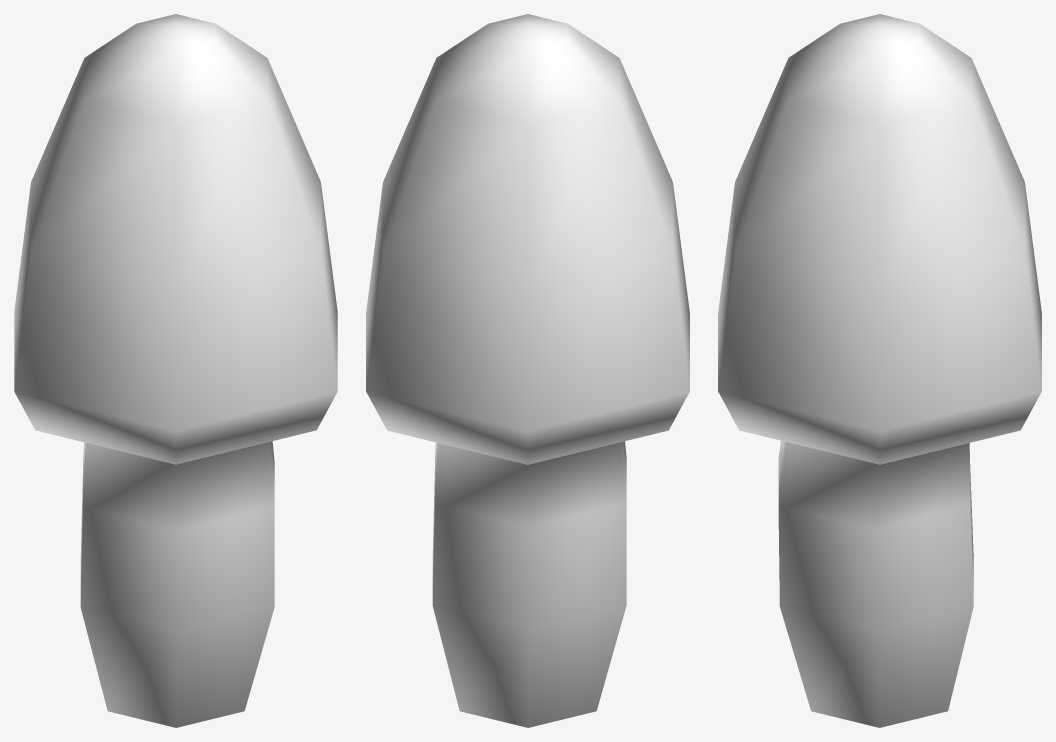
File: MushroomGround2.fbx
3 renders of one model, left to right at view 1: azimuth 30°, elevation 25°; view 2: azimuth 150°, elevation 25°; view 3: azimuth 270°, elevation 25°, orthographic.
Visible parts, largest first — view 1: MushroomGround2; view 2: MushroomGround2; view 3: MushroomGround2.
Boxes of the visible parts, <box> form: MushroomGround2: <box>14,14,337,727</box>; MushroomGround2: <box>366,14,689,727</box>; MushroomGround2: <box>718,14,1041,727</box>.
Size of the model in its own units: 0.3759 by 0.7427 by 0.3255.
Materials: 1 (1 with a texture image).
